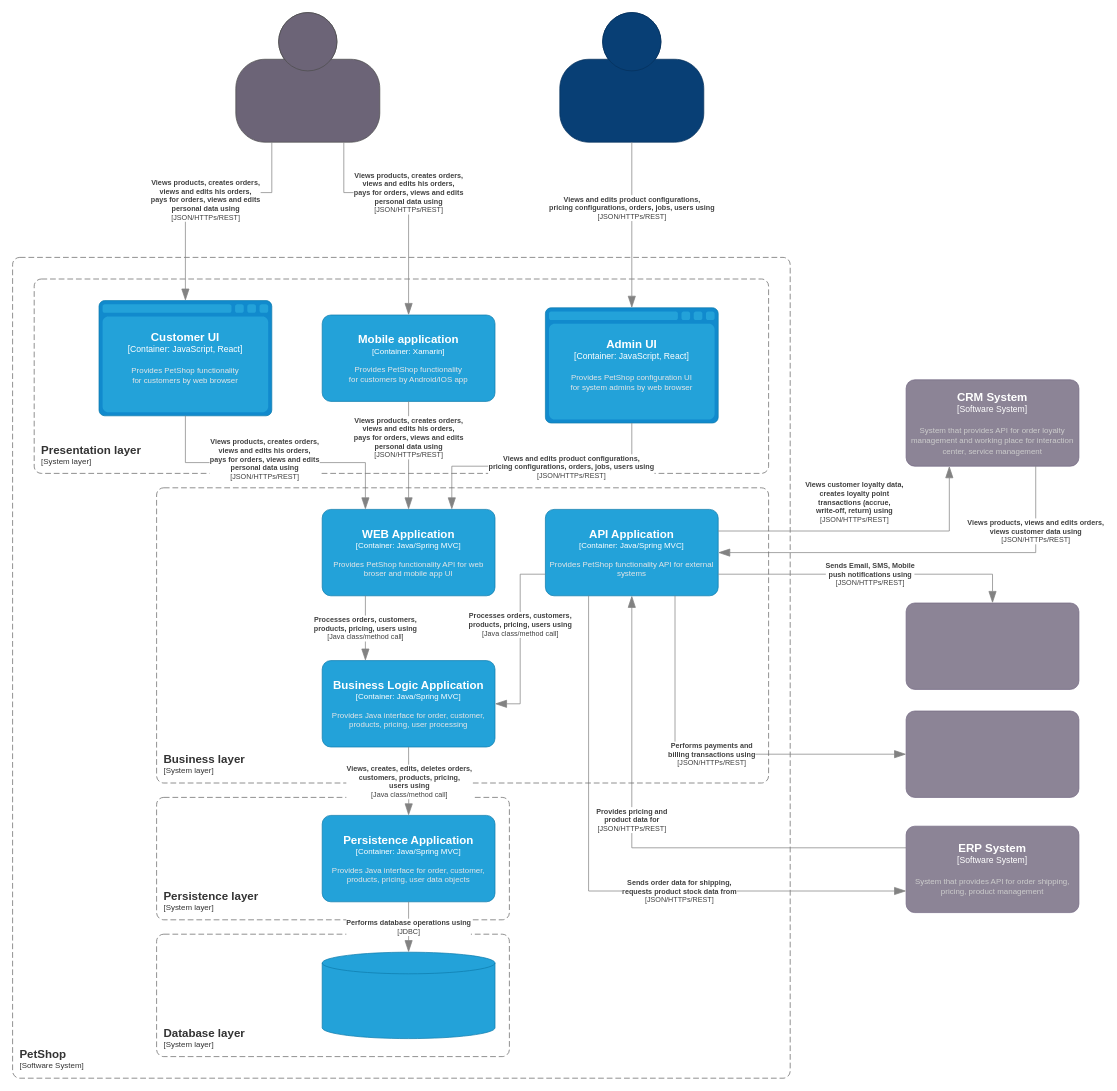
Some shapes in this 1117 by 1091 pixel diagram are drawn without their labels. Here are the shapes that lost their labels. From the top down, the centre of each, then its label:
pixel 307 77: Customer [Person] Customer of petshop with personal account
pixel 631 77: PetShop Admin [Person] Admin of PetShop system
pixel 992 645: Messaging System [Software System] System that provides API for messaging
pixel 992 753: Billing System [Software System] System that provides API for billing
pixel 408 995: Database [Container: PostgreSQL] Database for PetShop application
